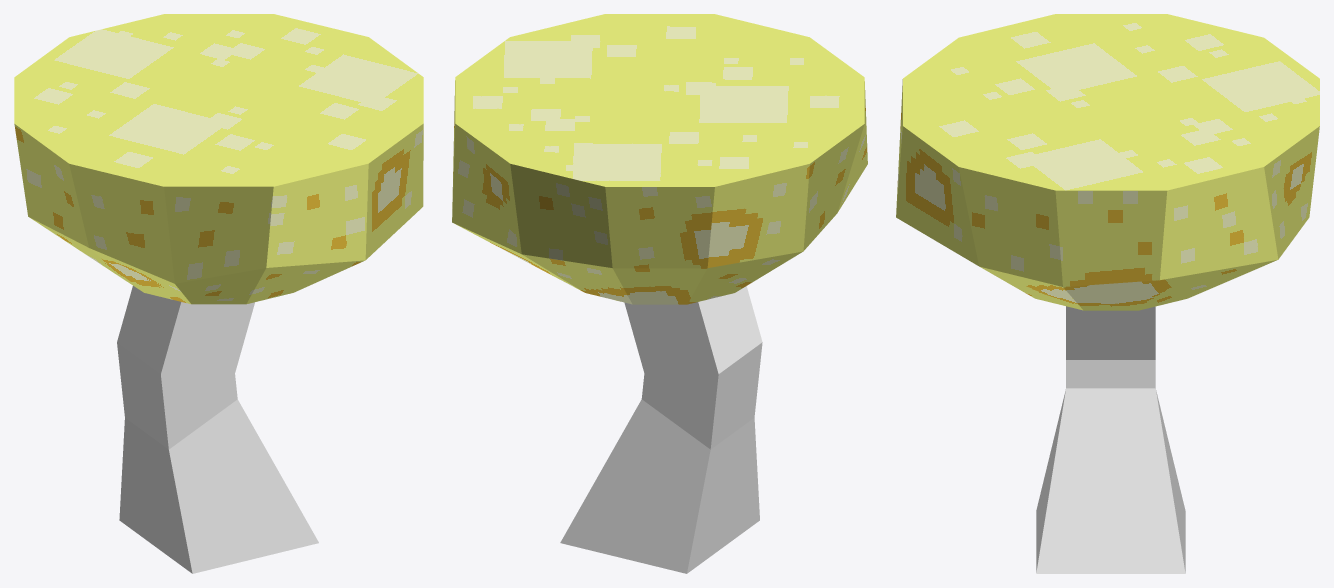
File: coral_yellow.gltf
3 views of the same model, side by side, from view 1: azimuth 30°, elevation 25°; view 2: azimuth 150°, elevation 25°; view 3: azimuth 270°, elevation 25° (orthographic). The views are drawn at different scales.
Parts seen in each view (by area): view 1: sphere, cuboid; view 2: sphere, cuboid; view 3: sphere, cuboid.
Part boxes in pixels (left/top/right/bottom): sphere: left=14, top=14, right=423, bottom=304; cuboid: left=117, top=286, right=318, bottom=573; sphere: left=452, top=14, right=867, bottom=304; cuboid: left=560, top=286, right=762, bottom=573; sphere: left=896, top=14, right=1319, bottom=310; cuboid: left=1036, top=306, right=1185, bottom=573.
Bounding box in the file's own units: 1.77 × 2.03 × 1.77.
Materials: 2 (2 with a texture image).
